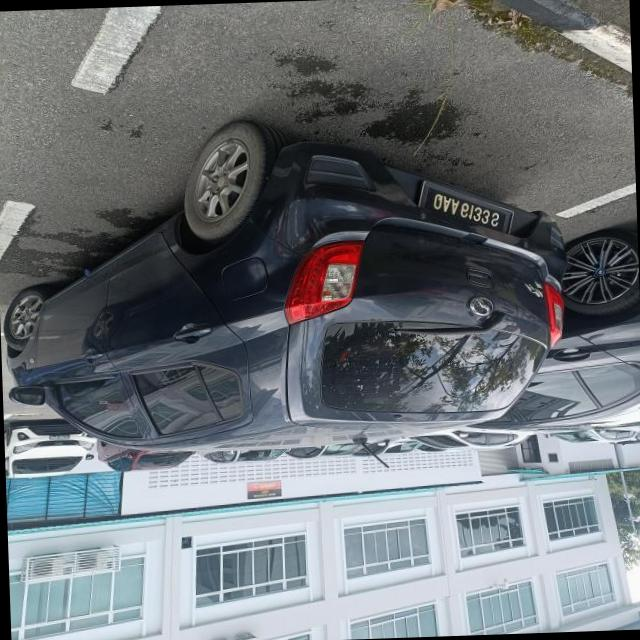PeroduaAxia: (0, 108, 575, 462)
